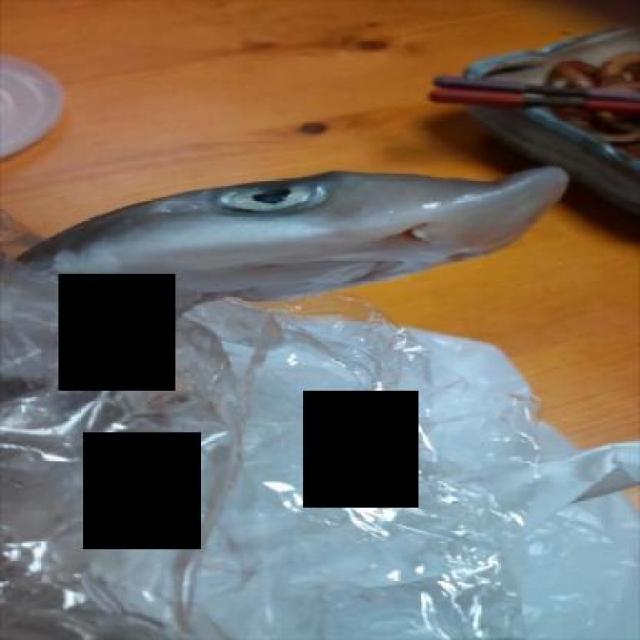plastic bag: (0, 250, 638, 638)
